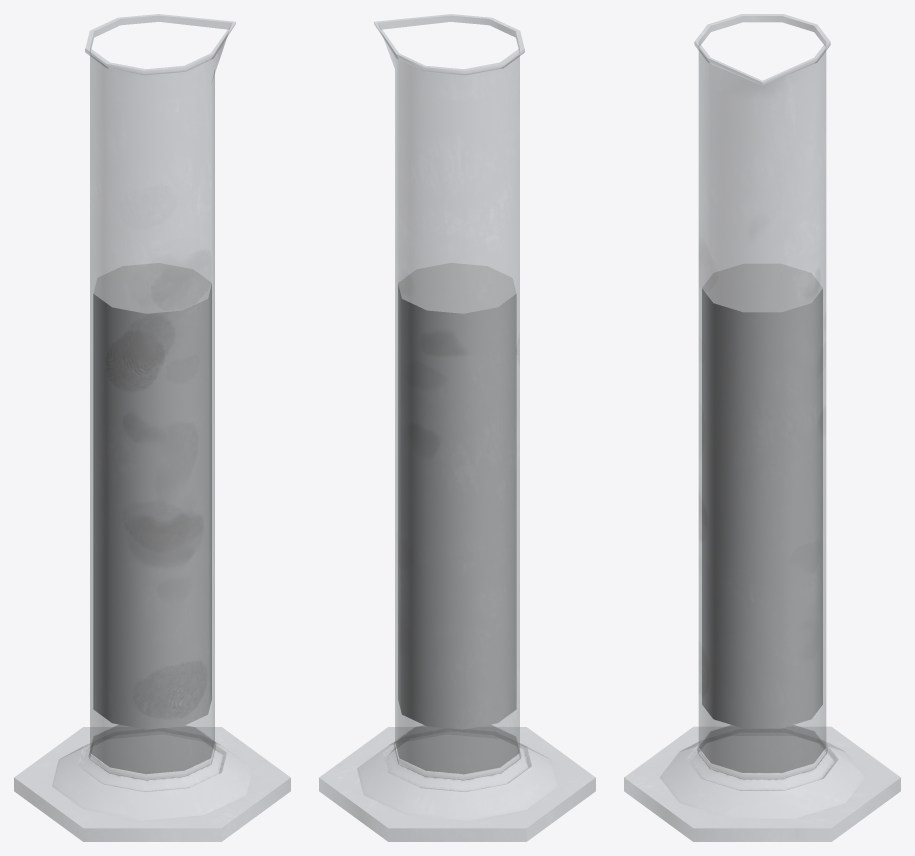
Rendered from TLLGraduatedCylinder.glb.
The picture shows the model from 3 angles, left to right: view 1: azimuth 30°, elevation 25°; view 2: azimuth 150°, elevation 25°; view 3: azimuth 270°, elevation 25°; orthographic projection.
Parts seen in each view (by area): view 1: BeakerwOpacity, BeakerLiquid; view 2: BeakerwOpacity, BeakerLiquid; view 3: BeakerwOpacity, BeakerLiquid.
Boxes of the visible parts, left/top/right/bottom form: BeakerwOpacity: left=14, top=14, right=290, bottom=841; BeakerLiquid: left=93, top=263, right=211, bottom=729; BeakerwOpacity: left=319, top=14, right=595, bottom=841; BeakerLiquid: left=398, top=263, right=516, bottom=729; BeakerwOpacity: left=624, top=14, right=900, bottom=841; BeakerLiquid: left=702, top=263, right=822, bottom=728.
Size of the model in its own units: 0.087 by 0.3 by 0.1004.
Materials: 2 (1 with a texture image).
